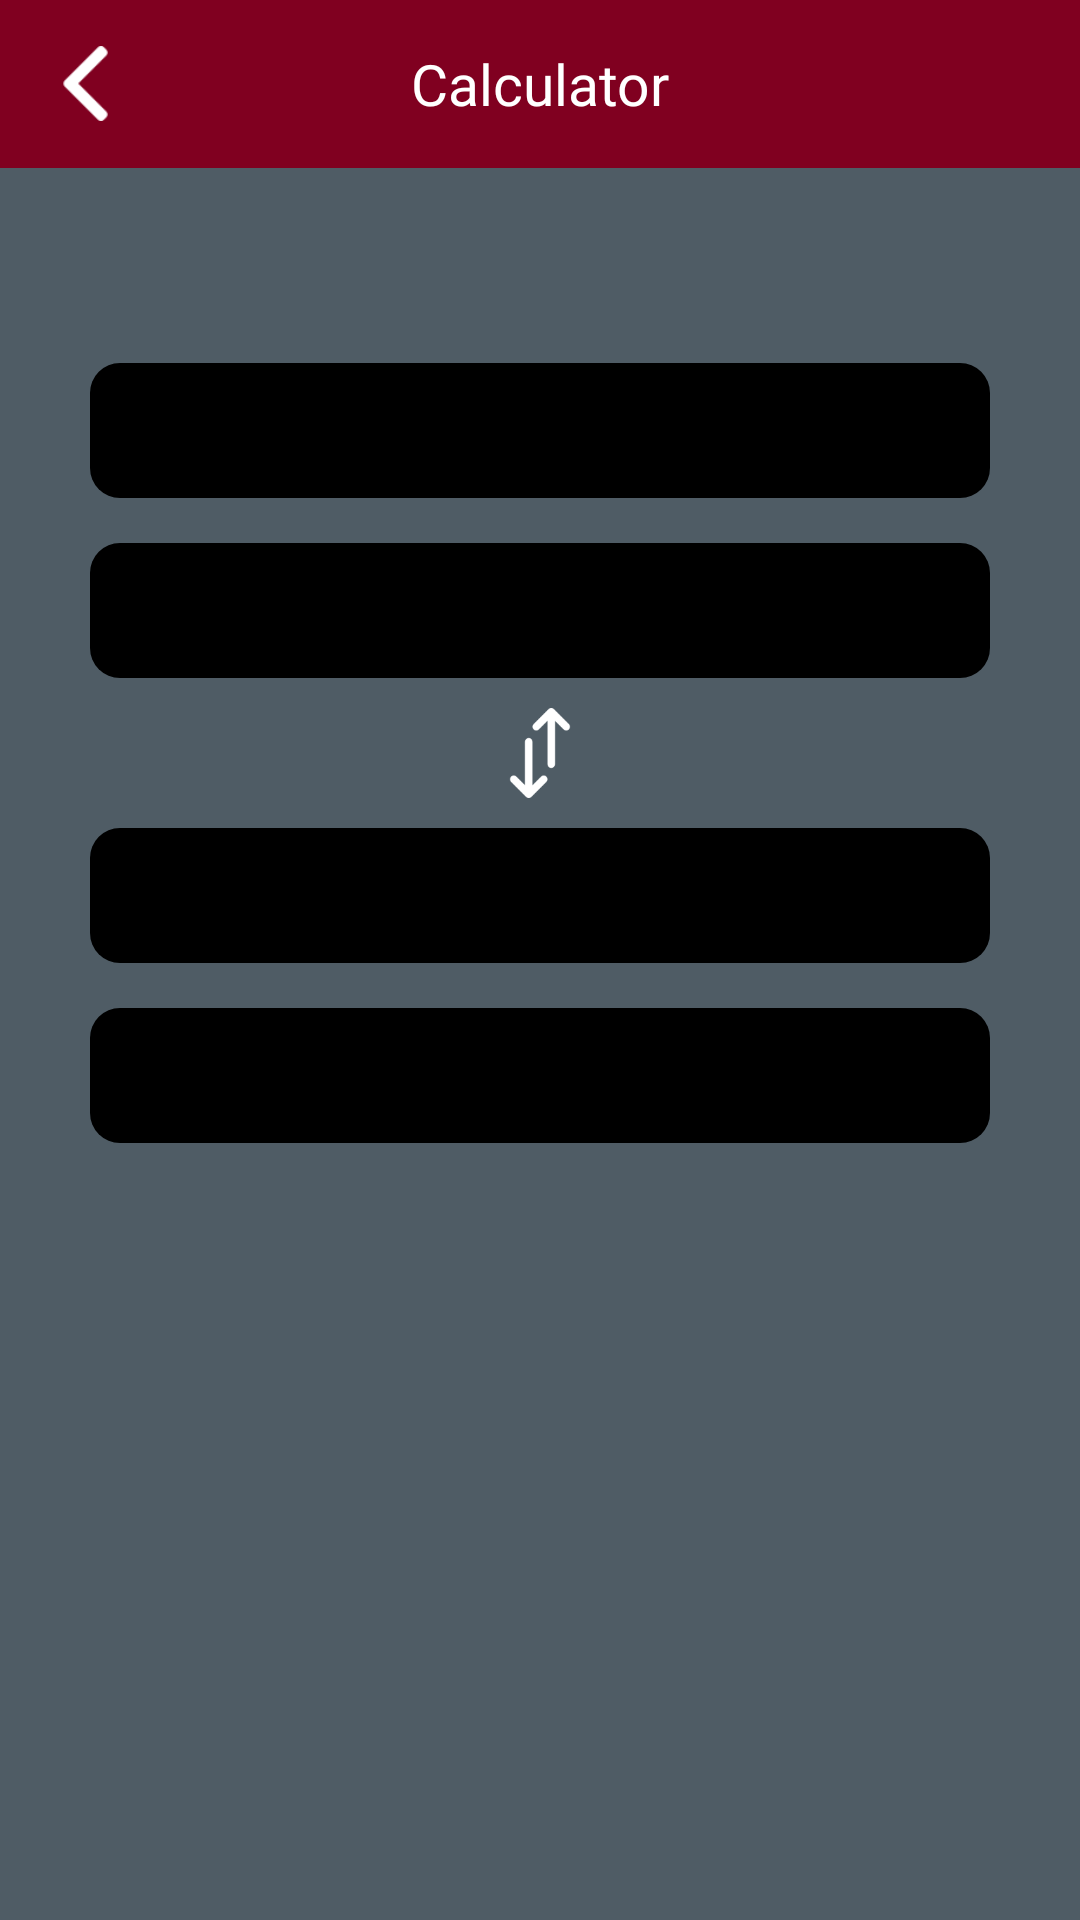

Where icons sit on this 1080w x 1920h app screen, as (x1, y1, x2, y2):
left arrow: (63, 46, 108, 121)
swap: (510, 708, 570, 798)
